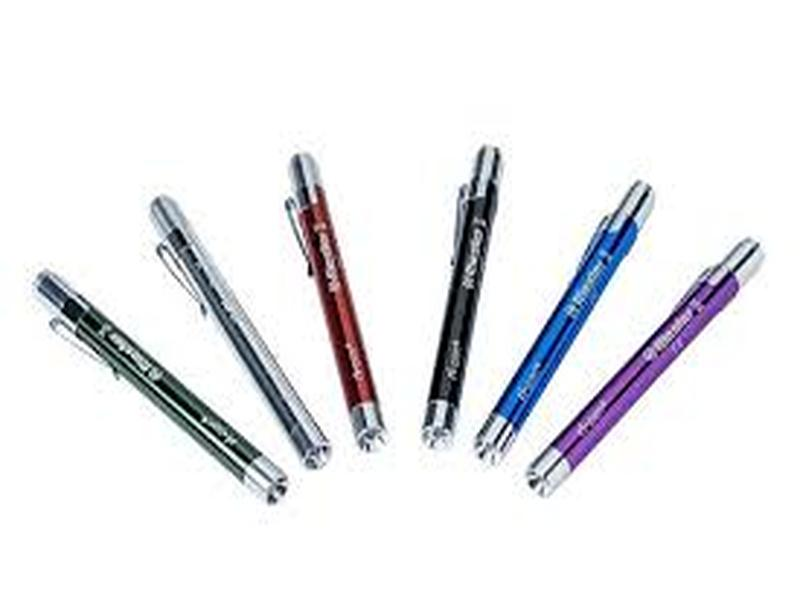qillqana: (267, 139, 397, 467)
